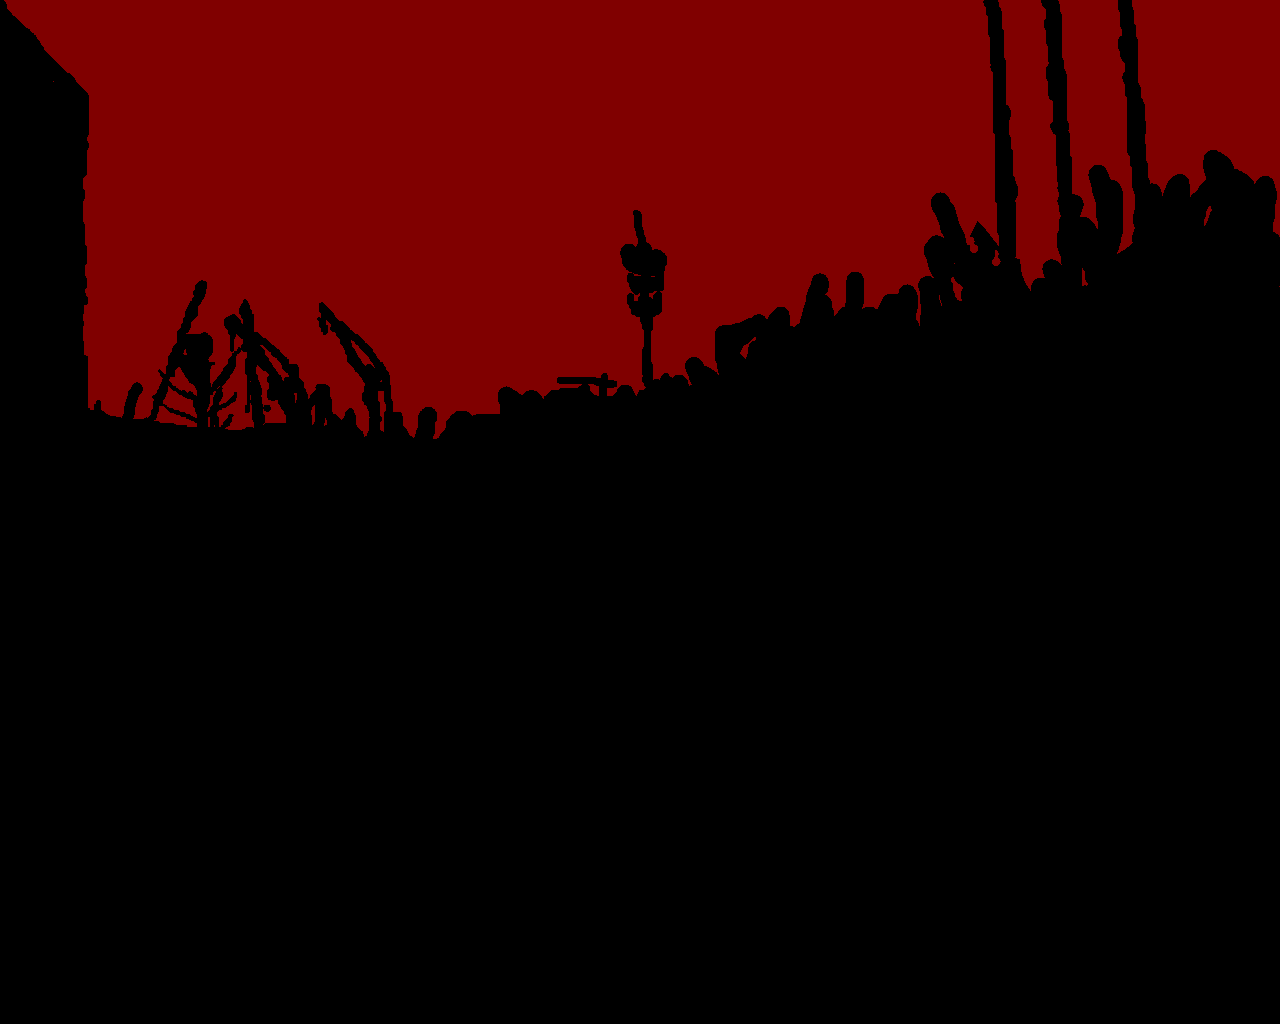Sky: (5, 1, 1279, 439)
